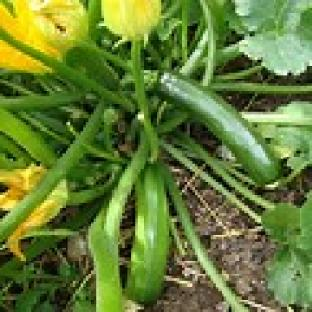Zucchini: (157, 73, 280, 184), (125, 164, 168, 304)
